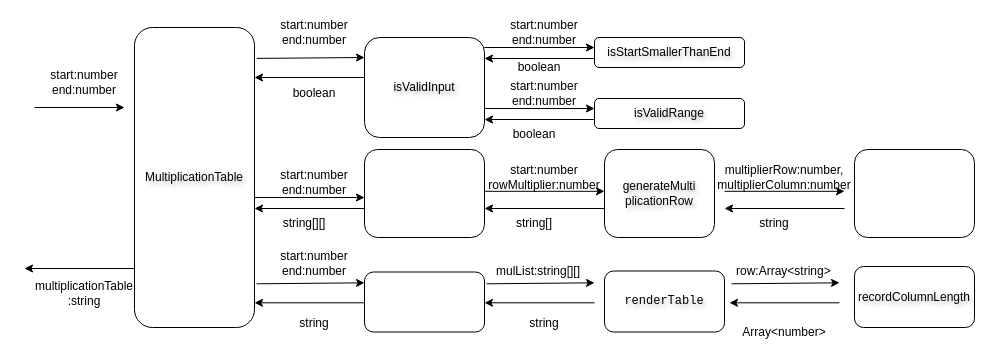
The diagram is 992 pixels wide and 364 high, and some of its shapes have lost their labels. Here are the shapes that lost their labels. From the top down, the centre of each, then its label:
At point (424, 193): "generateMulti plicationTable".
At point (914, 193): "generateMulti plicationItem".
At point (424, 301): "render".
